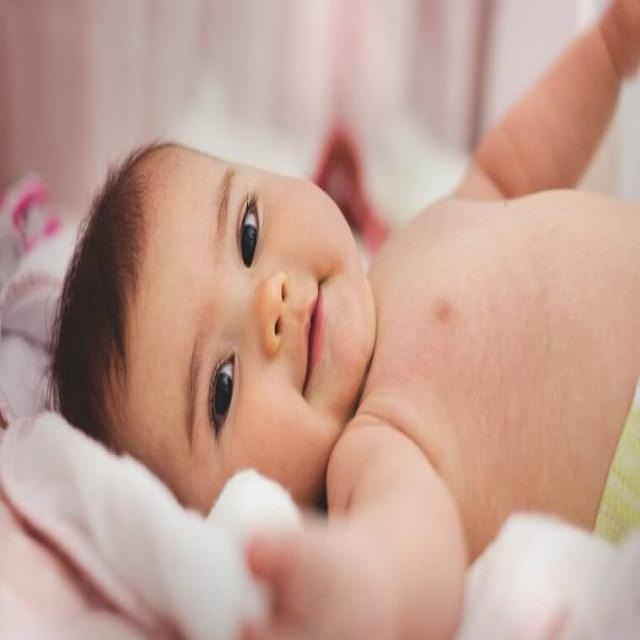non-dog: (39, 0, 640, 636)
